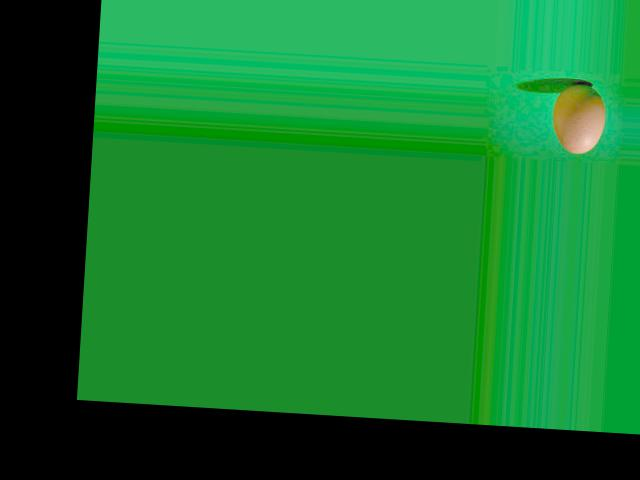egg: (550, 82, 607, 154)
